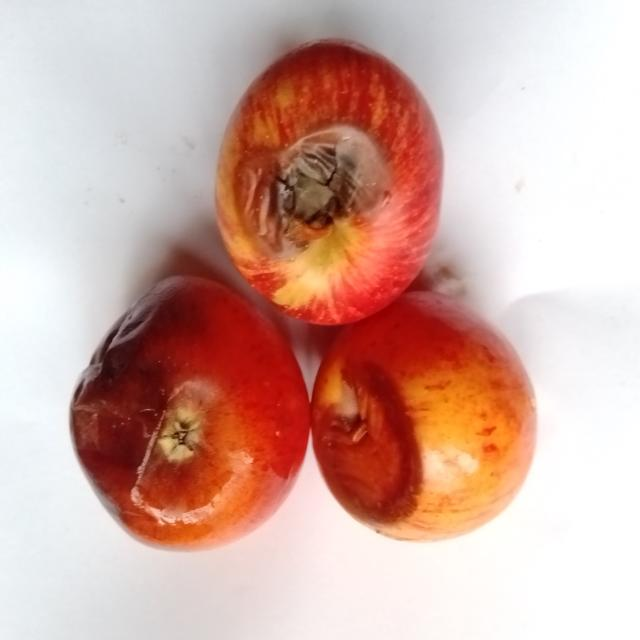apple: (72, 277, 309, 548), (217, 41, 442, 324), (312, 292, 535, 540)
